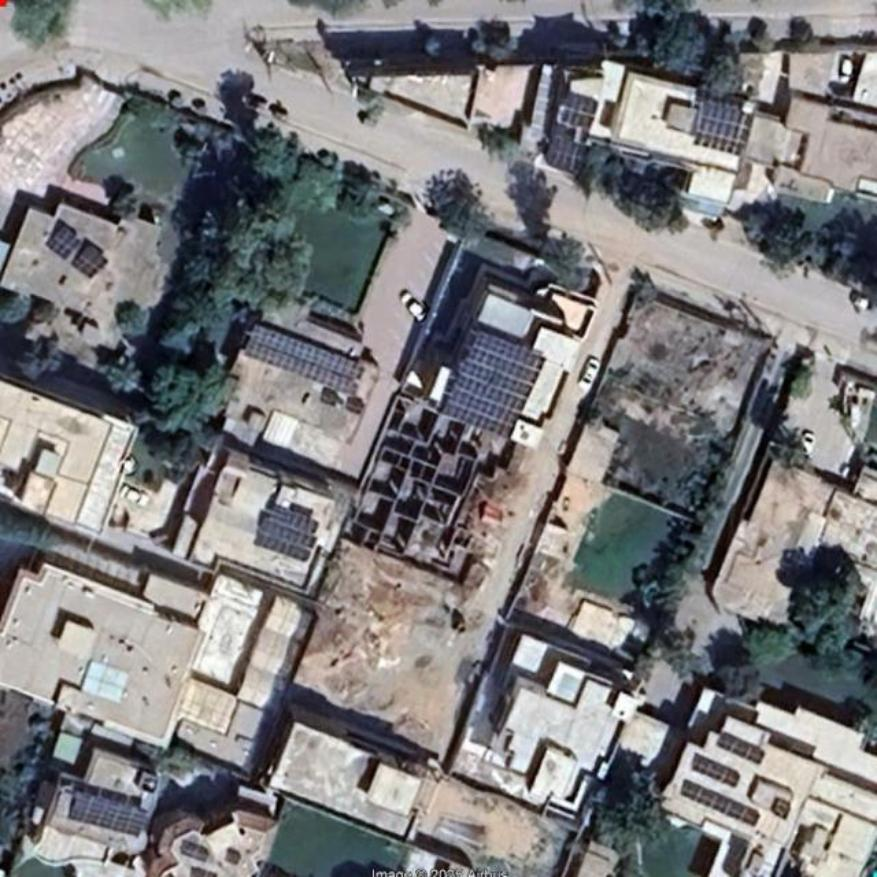Solarpanel: (440, 330, 545, 440), (248, 329, 360, 392), (683, 780, 759, 826), (255, 506, 317, 562), (70, 794, 147, 838), (698, 99, 744, 150), (545, 136, 588, 172), (692, 755, 738, 788), (717, 734, 764, 761), (46, 228, 81, 259), (563, 96, 598, 125), (77, 249, 106, 276)
